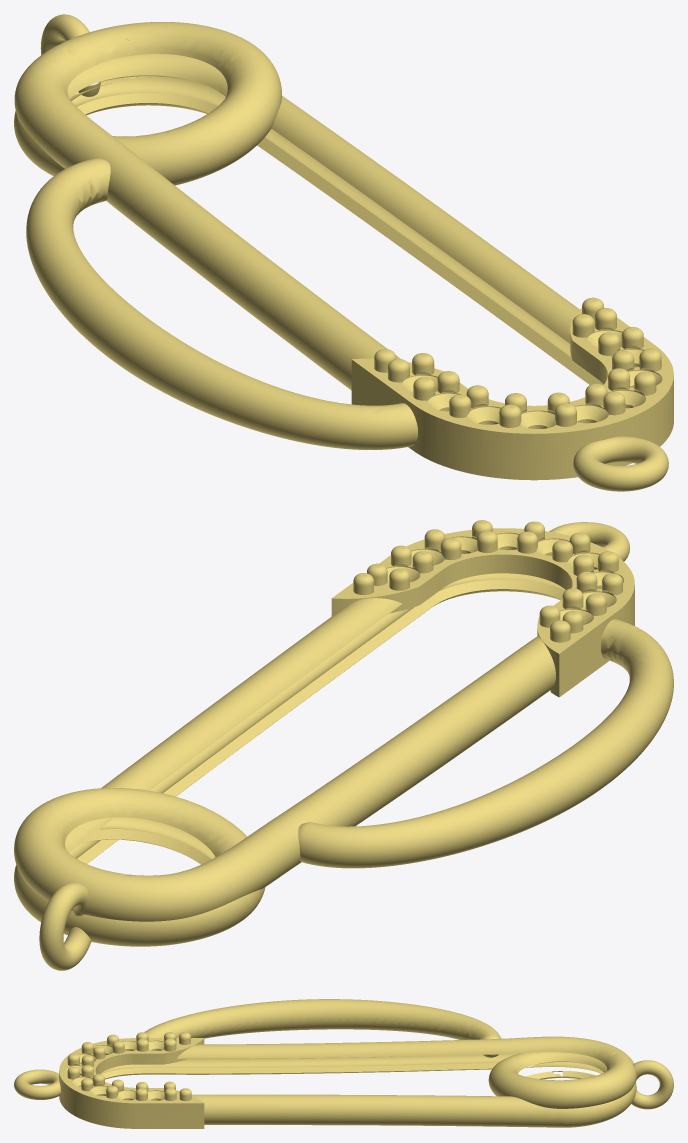
Rendered from bil_cengelli_igne.glb.
3 views of the same model, one above another, from view 1: azimuth 30°, elevation 25°; view 2: azimuth 150°, elevation 25°; view 3: azimuth 270°, elevation 25° (orthographic). The views are drawn at different scales.
Visible parts, largest first — view 1: Renderer Node; view 2: Renderer Node; view 3: Renderer Node.
Part boxes in pixels (x1=…): Renderer Node: x1=14, y1=14, x2=673, y2=491; Renderer Node: x1=14, y1=520, x2=673, y2=970; Renderer Node: x1=14, y1=999, x2=673, y2=1128.
Bounding box in the file's own units: 12.44 × 2.86 × 32.82.
